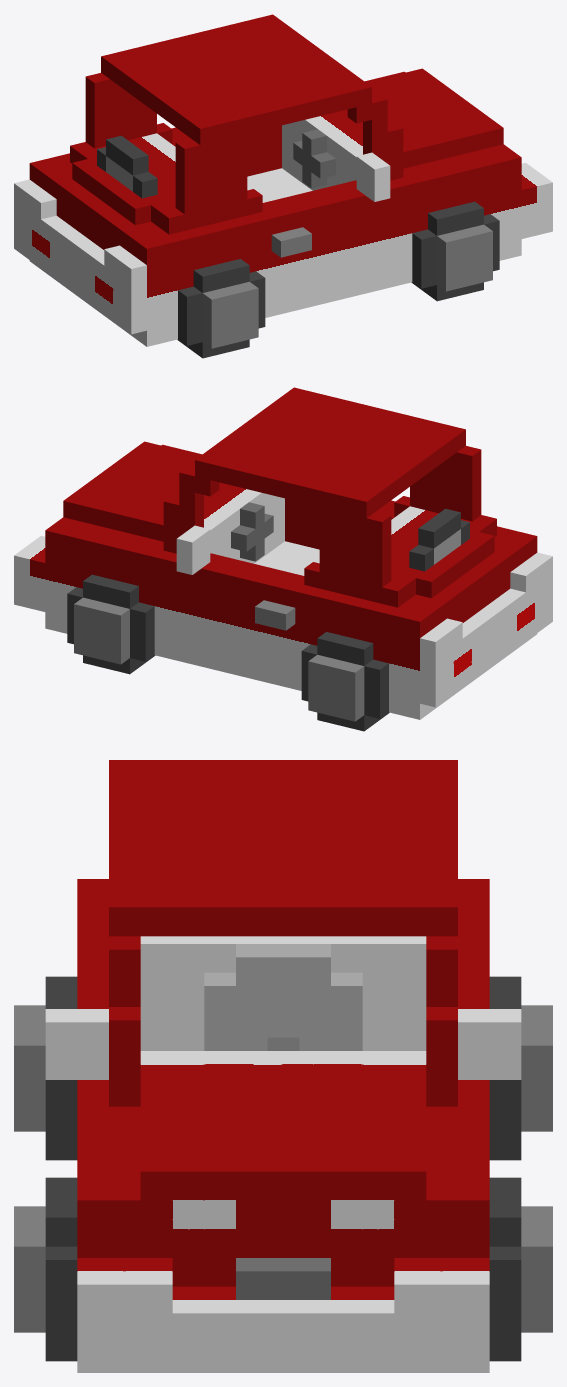
Rendered from veh_car1b.dae.
The picture shows the model from 3 angles, top to bottom: view 1: azimuth 30°, elevation 25°; view 2: azimuth 150°, elevation 25°; view 3: azimuth 270°, elevation 25°; orthographic projection. The views are drawn at different scales.
Parts seen in each view (by area): view 1: veh_car1b; view 2: veh_car1b; view 3: veh_car1b.
Part boxes in pixels (bbox=[...]): veh_car1b: bbox=[14, 14, 552, 358]; veh_car1b: bbox=[14, 387, 552, 731]; veh_car1b: bbox=[14, 760, 552, 1372].
Bounding box in the file's own units: 2.7 × 1.7 × 1.3.
Materials: 1 (1 with a texture image).
